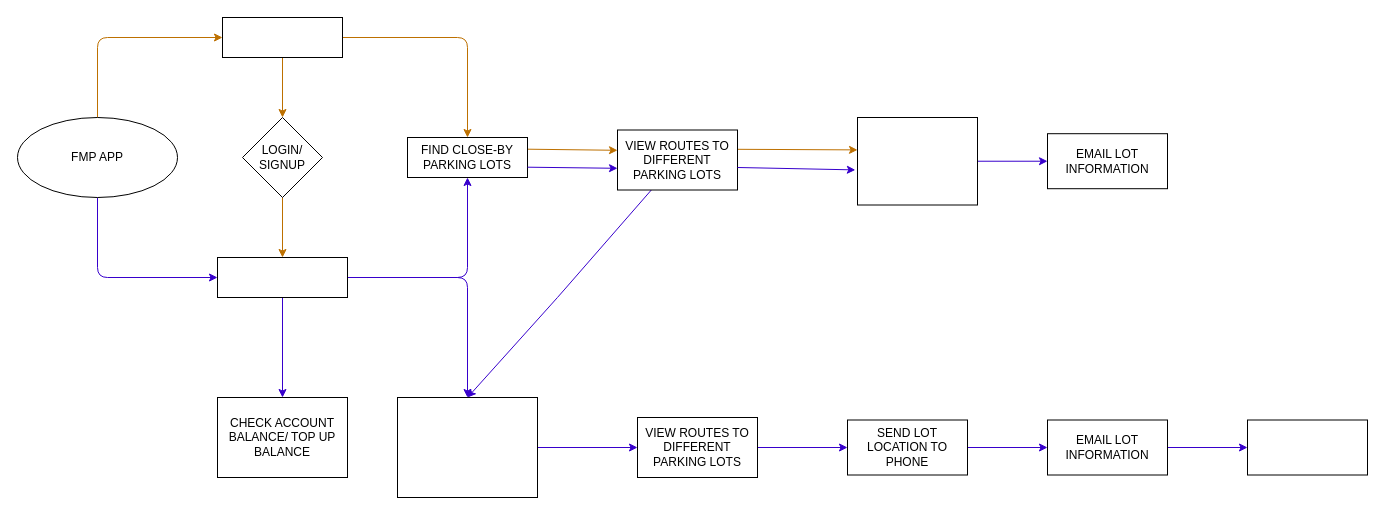
Some shapes in this 1385 by 515 pixel diagram are drawn without their labels. The centre of each missing label's shape, as x and y in pixels:
EMAIL SPOT INFORMATION: point (1307, 447)
FREE USER: point (282, 37)
RESERVE AVAILABLE PARKING SPOTS IN AVAILABLE/CLOSE-BY PARKING LOTS: point (467, 447)
SELECT AND SEND LOT LOCATION TO PHONE: point (917, 160)
SUBSCRIBED USER: point (282, 277)
